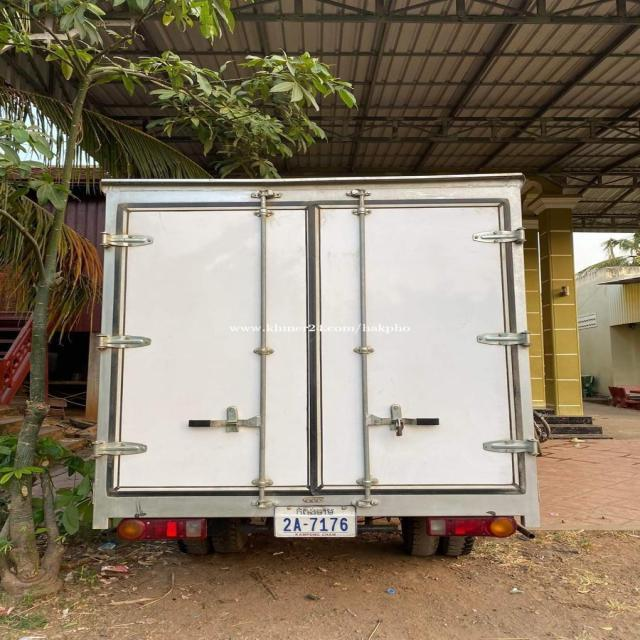Kampong_Cham: (295, 508, 336, 518)
